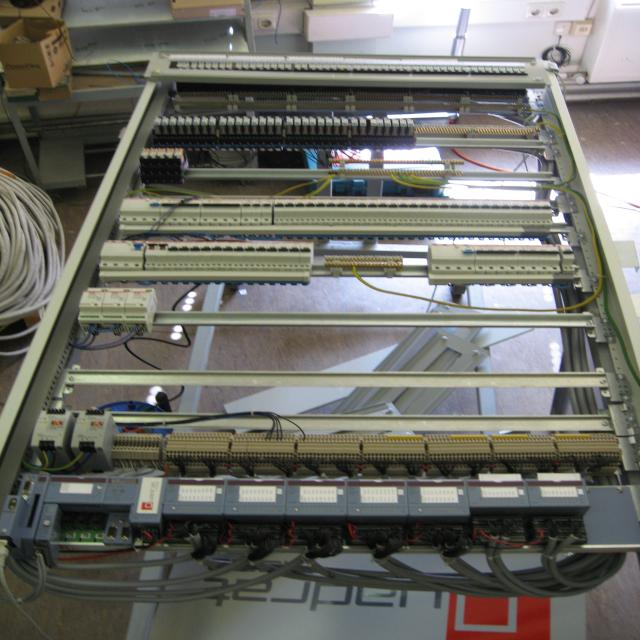Dimmer: (124, 288, 158, 333), (100, 287, 130, 333), (78, 287, 107, 332)
FI_Sicherungskombi: (99, 241, 146, 270), (430, 244, 475, 274), (117, 198, 162, 224)
Leitungsschutzschalter: (221, 241, 237, 271), (254, 241, 270, 271), (178, 198, 195, 226), (243, 241, 258, 271), (265, 241, 280, 271), (559, 246, 575, 274), (477, 199, 493, 227), (144, 241, 159, 270), (156, 241, 171, 270), (231, 241, 246, 270), (276, 241, 290, 272), (287, 241, 301, 272), (167, 242, 182, 270), (211, 242, 226, 270), (298, 242, 312, 272), (168, 199, 184, 225), (487, 200, 503, 226), (178, 241, 192, 270), (209, 199, 224, 226), (447, 199, 462, 226), (457, 199, 472, 226), (467, 199, 482, 226), (189, 242, 203, 270), (199, 242, 213, 270), (386, 198, 400, 226), (219, 199, 233, 226), (228, 199, 242, 226), (529, 200, 543, 227), (344, 199, 358, 226), (355, 198, 369, 225), (427, 199, 441, 226), (189, 200, 203, 226), (284, 198, 297, 226), (365, 199, 379, 225), (437, 200, 451, 226), (499, 200, 513, 226), (200, 199, 213, 226), (519, 200, 532, 227), (540, 200, 553, 227), (334, 198, 347, 225), (407, 199, 420, 226), (160, 199, 173, 225), (260, 199, 273, 225), (304, 199, 317, 225), (314, 199, 327, 225), (324, 199, 337, 225), (397, 199, 410, 225), (417, 199, 430, 225), (376, 198, 388, 226), (294, 198, 306, 225), (250, 199, 262, 225), (550, 246, 561, 274), (241, 199, 252, 226), (512, 200, 523, 227), (274, 198, 285, 225)
Relais: (208, 117, 217, 126), (200, 117, 209, 126), (192, 117, 201, 126), (274, 118, 282, 127), (266, 117, 274, 126), (235, 117, 243, 126), (219, 117, 227, 126), (185, 118, 193, 127), (177, 117, 185, 126), (169, 117, 177, 126), (161, 118, 170, 126), (140, 148, 149, 156), (173, 148, 183, 155), (407, 119, 415, 127), (392, 119, 400, 127), (370, 119, 378, 127), (325, 118, 333, 126), (317, 118, 325, 126), (294, 118, 302, 126), (259, 118, 267, 126), (251, 118, 259, 126), (243, 118, 251, 126), (227, 118, 235, 126), (154, 117, 162, 125), (384, 118, 391, 127), (286, 117, 293, 126), (156, 148, 165, 155), (376, 119, 384, 126), (359, 119, 367, 126), (351, 118, 358, 126), (334, 118, 341, 126), (309, 118, 316, 126), (302, 118, 309, 126), (149, 149, 157, 156), (166, 148, 174, 155), (316, 62, 323, 69), (176, 61, 184, 67), (181, 61, 189, 67), (190, 61, 198, 67), (197, 61, 205, 67), (400, 119, 406, 127), (342, 118, 348, 126), (263, 62, 270, 68), (301, 62, 308, 68), (309, 62, 316, 68), (205, 61, 211, 67), (226, 61, 232, 67), (243, 61, 249, 67), (257, 62, 263, 68), (271, 62, 277, 68), (277, 62, 283, 68), (285, 62, 291, 68), (295, 62, 301, 68), (235, 62, 242, 67), (250, 62, 257, 67), (212, 62, 218, 67), (219, 62, 225, 67), (131, 235, 136, 236)
SPS_System_Steuerungskomponente: (0, 474, 110, 550), (104, 476, 167, 521), (223, 477, 287, 515), (406, 479, 471, 516), (165, 477, 226, 515), (286, 479, 347, 515), (346, 479, 408, 514), (465, 479, 531, 507), (526, 479, 591, 506)
netzteile: (29, 411, 72, 449), (70, 411, 112, 448)
